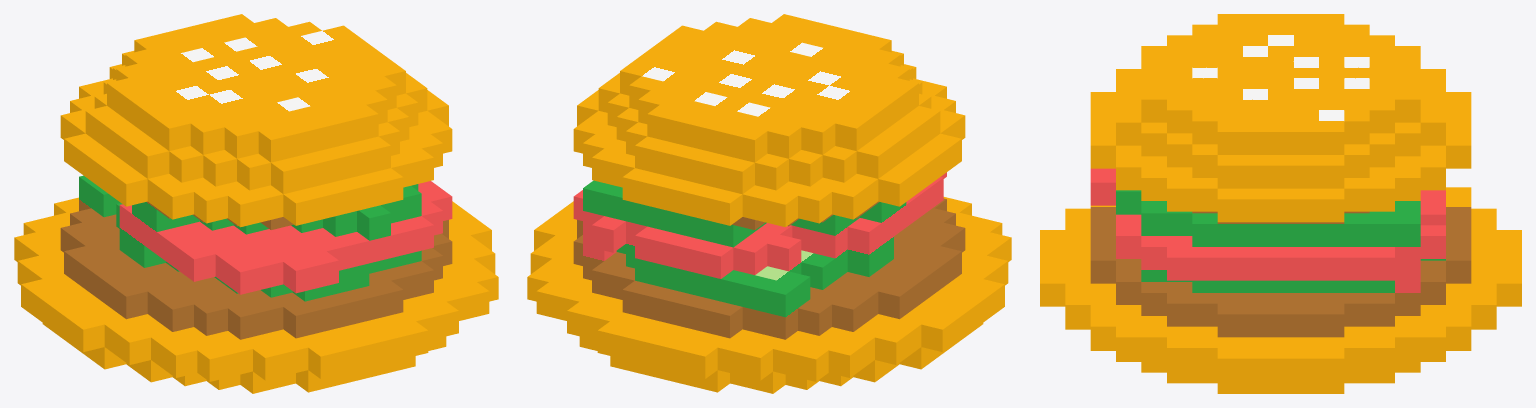
File: 老八秘制小汉堡.gltf
3 views of the same model, side by side, from view 1: azimuth 30°, elevation 25°; view 2: azimuth 150°, elevation 25°; view 3: azimuth 270°, elevation 25° (orthographic). The views are drawn at different scales.
Parts seen in each view (by area): view 1: Object; view 2: Object; view 3: Object.
Part boxes in pixels (x1=…): Object: x1=14, y1=14, x2=498, y2=393; Object: x1=527, y1=14, x2=1011, y2=393; Object: x1=1040, y1=14, x2=1521, y2=393.
Bounding box in the file's own units: 19 × 10 × 19.
Materials: 1 (1 with a texture image).
